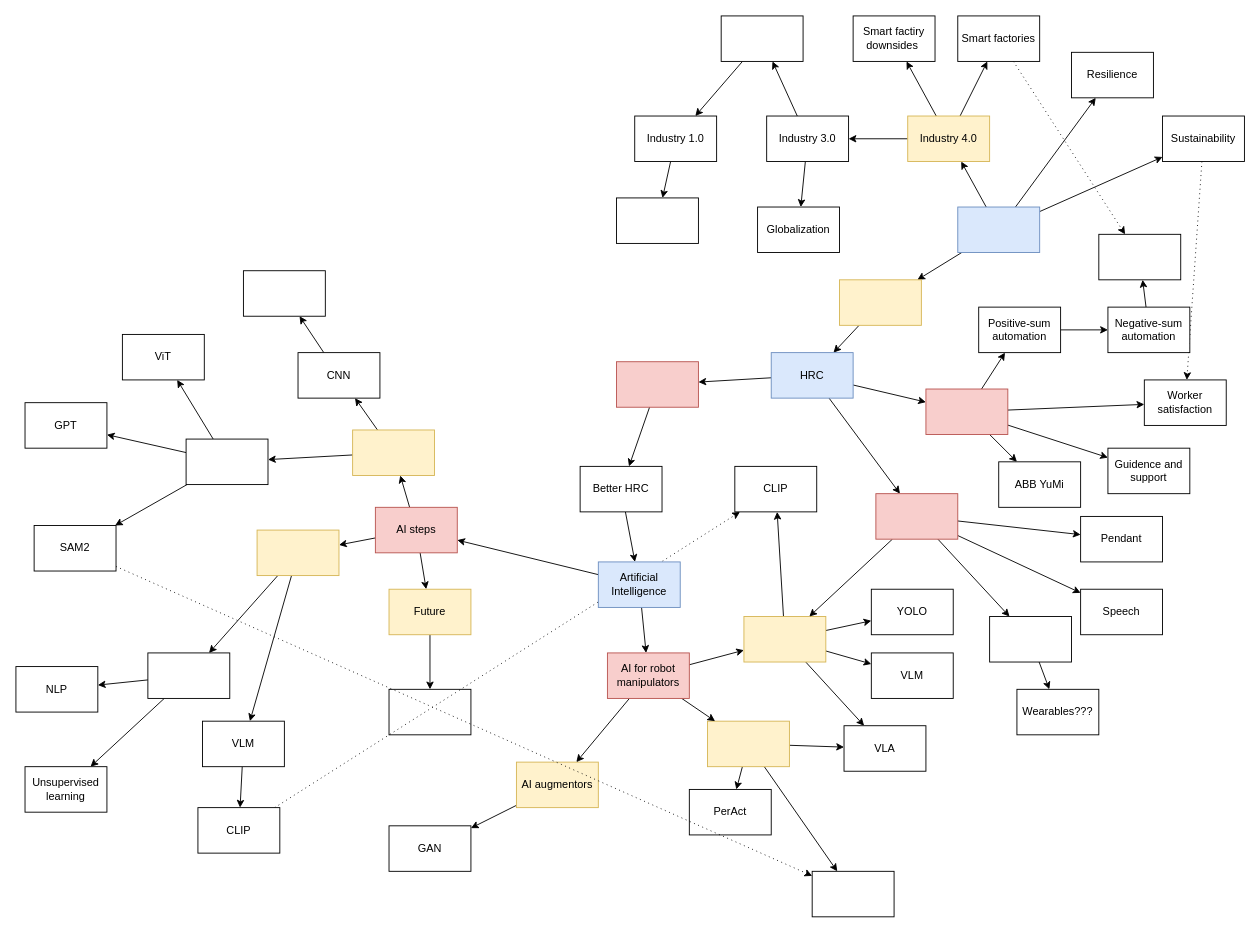
This 1260x933 diagram has some shape labels left out. Here are the shapes that lost their labels. From the top down, the centre of each, then its label:
[761,38]: Industry 2.0
[657,220]: Explosion in productivity
[998,229]: Industry 5.0
[1139,256]: Lights-out factories
[284,293]: AlexNet
[880,302]: Human-centric automation
[657,384]: HRC reserach
[966,411]: Cobots
[226,461]: Transformer
[393,452]: Before
[916,516]: HRI
[297,552]: Now
[784,639]: AI perceptors
[1030,639]: Gesture control
[188,675]: LLM
[429,711]: Agentic AI
[748,743]: AI Manipulators
[852,893]: SAM2Act
